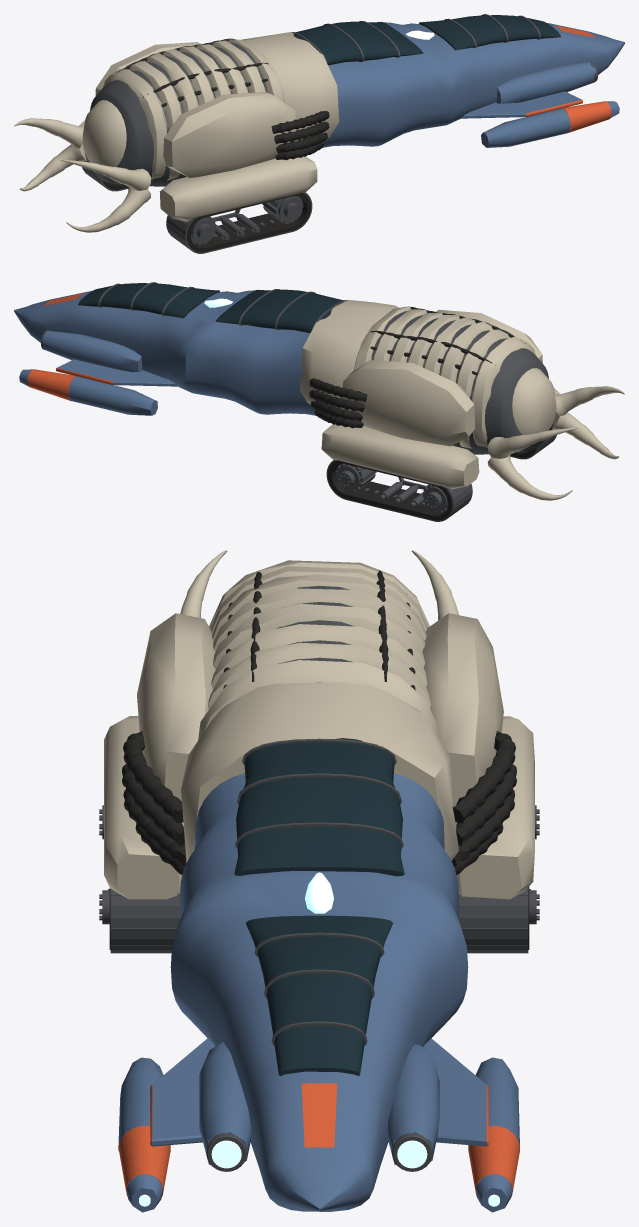
Rendered from helix_blueprint_LOD2.glb.
The picture shows the model from 3 angles, top to bottom: view 1: azimuth 30°, elevation 25°; view 2: azimuth 150°, elevation 25°; view 3: azimuth 270°, elevation 25°; orthographic projection. The views are drawn at different scales.
Parts seen in each view (by area): view 1: Body_Hull.001, Body_Shoulder_-1.001, Body_Fender_-1.001, Body_Collar.001, Body_Hull.001_m2, Glass_CanopyAft.001, Glass_CanopyFwd.001, Body_Nacelle_-1.001, Body_Maw.001, Body_Pod_-1.001, Prop_Track_Belt_-1.001, Body_Plate_0.001 (+23 smaller); view 2: Body_Hull.001, Body_Shoulder_+1.001, Body_Fender_+1.001, Body_Collar.001, Body_Hull.001_m2, Glass_CanopyAft.001, Glass_CanopyFwd.001, Body_Nacelle_+1.001, Body_Maw.001, Body_Pod_+1.001, Prop_Track_Belt_+1.001, Body_Plate_0.001 (+23 smaller); view 3: Body_Hull.001, Glass_CanopyAft.001, Body_Collar.001, Glass_CanopyFwd.001, Body_Shoulder_+1.001, Body_Shoulder_-1.001, Body_Fender_-1.001, Body_Fender_+1.001, Body_Plate_7.001, Body_Wing_+1.001, Body_Wing_-1.001, Body_Nacelle_-1.001 (+27 smaller).
Boxes of the visible parts, bbox=[...] form: Body_Hull.001: bbox=[323, 22, 624, 147]; Body_Shoulder_-1.001: bbox=[163, 92, 295, 177]; Body_Fender_-1.001: bbox=[159, 156, 317, 221]; Body_Collar.001: bbox=[241, 32, 339, 141]; Body_Hull.001_m2: bbox=[85, 43, 267, 186]; Glass_CanopyAft.001: bbox=[293, 21, 423, 64]; Glass_CanopyFwd.001: bbox=[419, 15, 560, 50]; Body_Nacelle_-1.001: bbox=[496, 62, 595, 103]; Body_Maw.001: bbox=[82, 100, 126, 175]; Body_Pod_-1.001: bbox=[481, 101, 619, 147]; Prop_Track_Belt_-1.001: bbox=[186, 192, 311, 252]; Body_Plate_0.001: bbox=[103, 69, 167, 179]; Body_Hull.001: bbox=[14, 290, 315, 415]; Body_Shoulder_+1.001: bbox=[342, 359, 474, 446]; Body_Fender_+1.001: bbox=[321, 424, 479, 488]; Body_Collar.001: bbox=[299, 299, 399, 409]; Body_Hull.001_m2: bbox=[371, 311, 553, 454]; Glass_CanopyAft.001: bbox=[215, 289, 343, 332]; Glass_CanopyFwd.001: bbox=[78, 283, 219, 318]; Body_Nacelle_+1.001: bbox=[42, 331, 142, 372]; Body_Maw.001: bbox=[512, 368, 556, 443]; Body_Pod_+1.001: bbox=[19, 369, 157, 415]; Prop_Track_Belt_+1.001: bbox=[328, 460, 452, 520]; Body_Plate_0.001: bbox=[471, 336, 535, 447]; Body_Hull.001: bbox=[170, 773, 468, 1211]; Glass_CanopyAft.001: bbox=[234, 738, 404, 876]; Body_Collar.001: bbox=[181, 682, 458, 862]; Glass_CanopyFwd.001: bbox=[245, 915, 393, 1076]; Body_Shoulder_+1.001: bbox=[422, 613, 503, 805]; Body_Shoulder_-1.001: bbox=[137, 613, 215, 801]; Body_Fender_-1.001: bbox=[104, 716, 183, 899]; Body_Fender_+1.001: bbox=[456, 716, 534, 899]; Body_Plate_7.001: bbox=[198, 660, 439, 740]; Body_Wing_+1.001: bbox=[424, 1038, 486, 1146]; Body_Wing_-1.001: bbox=[152, 1038, 214, 1146]; Body_Nacelle_-1.001: bbox=[199, 1042, 251, 1164].
Size of the model in its own units: 4.97 by 1.22 by 1.61.
